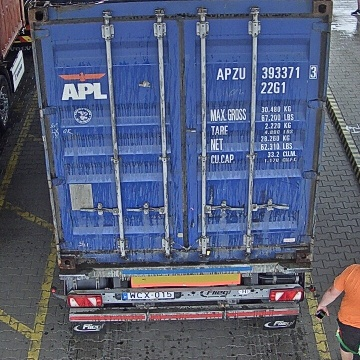serial_id: (216, 66, 317, 79)
